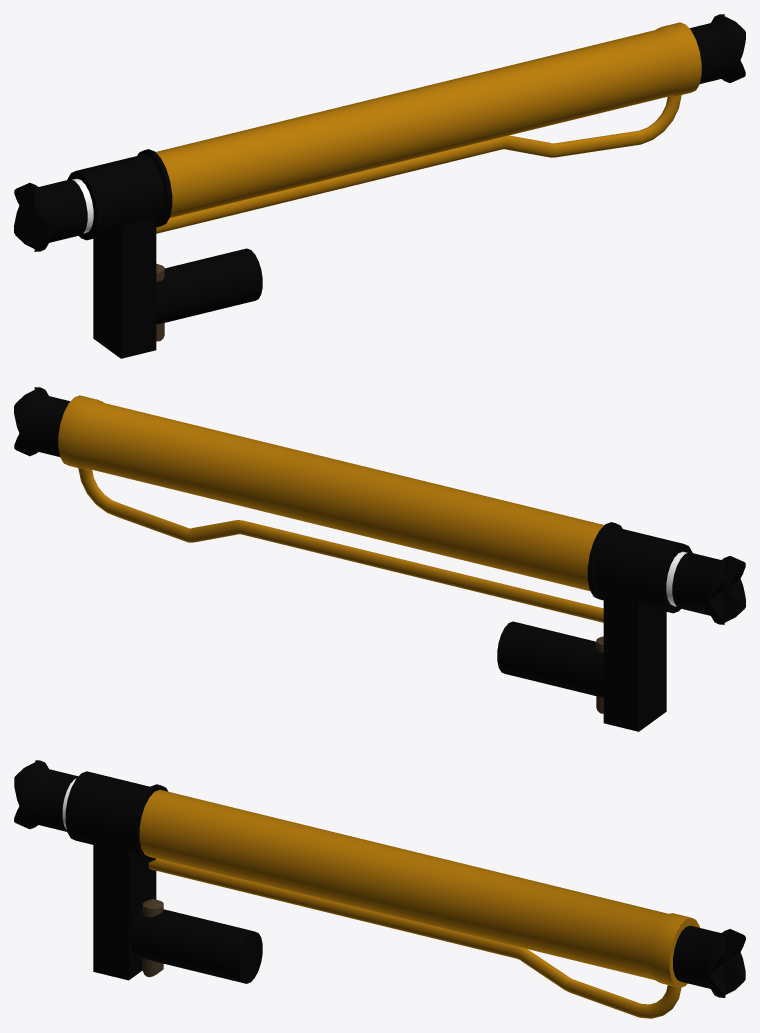
3 views of the same model, one above another, from view 1: azimuth 30°, elevation 25°; view 2: azimuth 150°, elevation 25°; view 3: azimuth 330°, elevation 25° (orthographic).
Visible parts, largest first — view 1: Extension, Upper, Handle, Connector, Tail, Head; view 2: Extension, Upper, Handle, Connector, Tail, Head; view 3: Extension, Upper, Handle, Connector, Head, Tail, Gear.
Part boxes in pixels (<box>): Extension: <box>155,78,477,233</box>; Upper: <box>454,22,701,160</box>; Handle: <box>67,149,172,358</box>; Connector: <box>156,248,262,324</box>; Tail: <box>14,178,93,251</box>; Head: <box>689,14,745,83</box>; Extension: <box>283,451,604,622</box>; Upper: <box>58,395,302,545</box>; Handle: <box>587,522,692,731</box>; Connector: <box>497,621,603,697</box>; Tail: <box>666,551,745,624</box>; Head: <box>14,387,70,456</box>; Extension: <box>139,789,468,946</box>; Upper: <box>446,864,699,1018</box>; Handle: <box>65,771,168,980</box>; Connector: <box>130,907,262,983</box>; Head: <box>673,925,745,997</box>; Tail: <box>14,760,77,831</box>; Gear: <box>142,899,163,977</box>.
Bounding box in the file's own units: 75.39 × 18.81 × 6.41.
